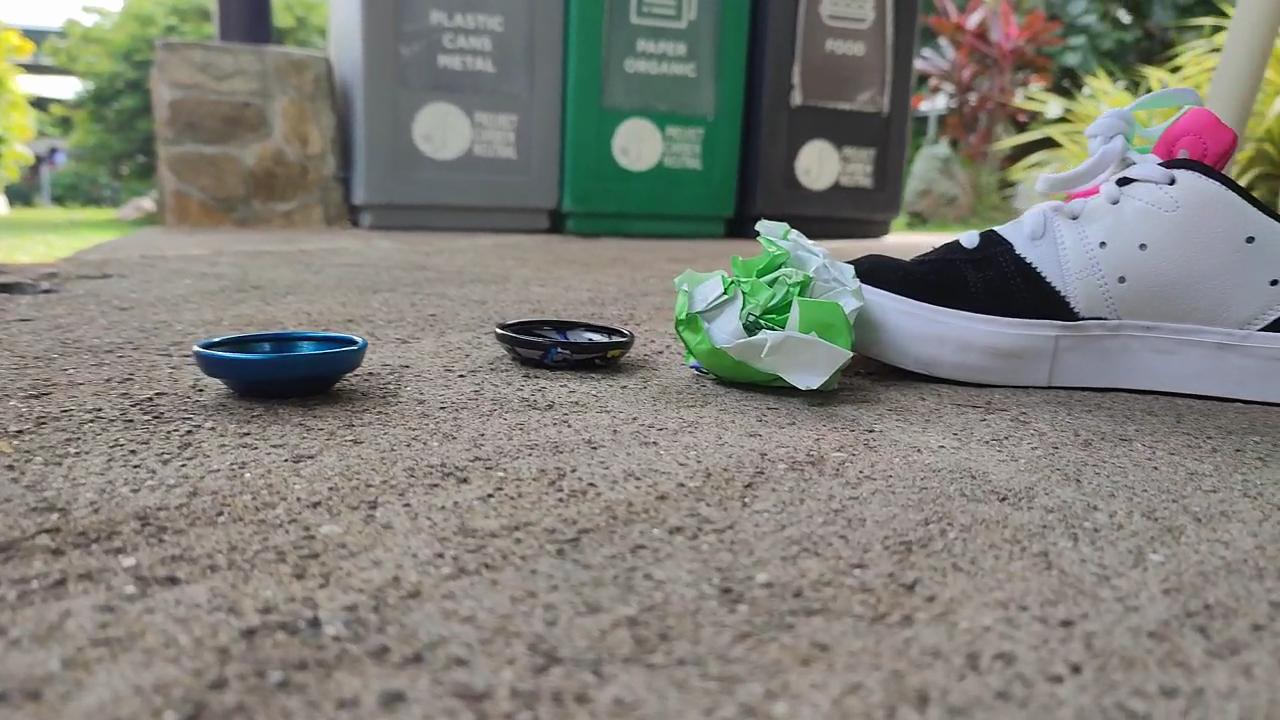Paper: (657, 212, 865, 414)
